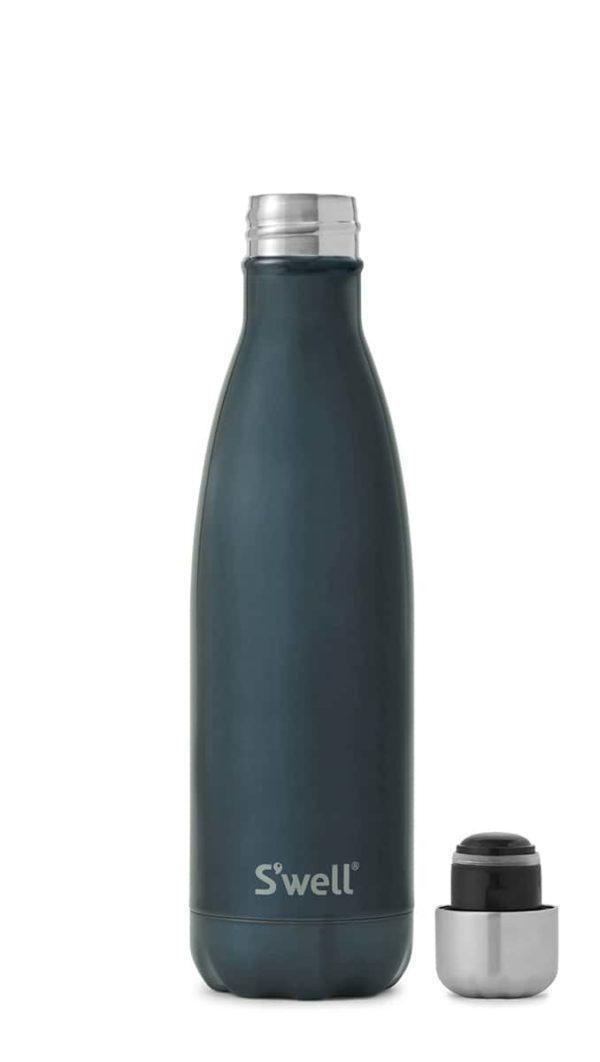gym bottle: (180, 179, 422, 1007)
